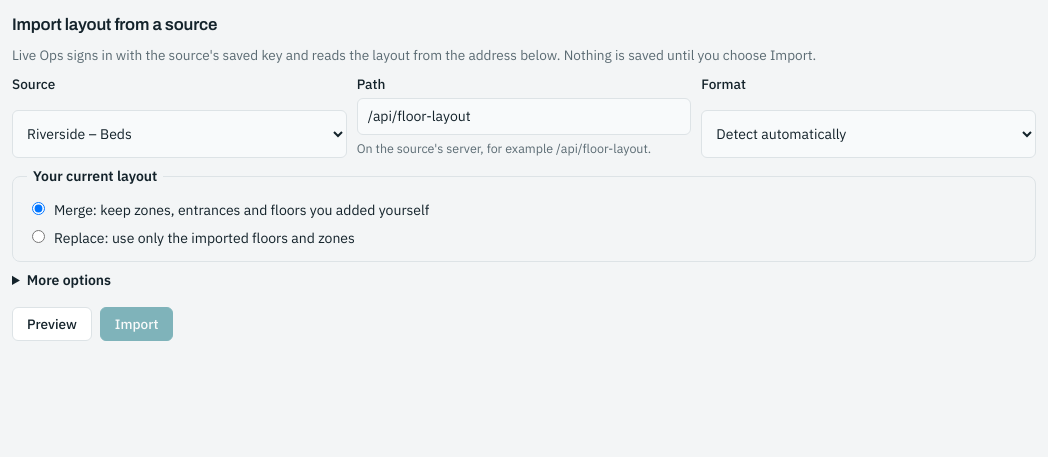
Test: errors from the source are shown in plain language with the hint
The width and height of the screenshot is (1048, 457).
Replace the text in the field labelled "Path" with "/v2/layout" at (524, 116), box [357,98,691,135]
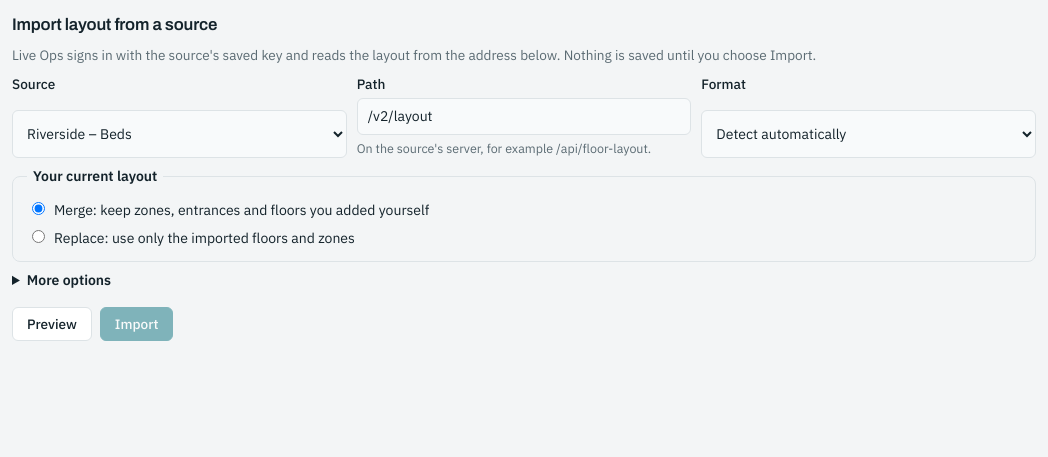
Click the button "Preview" at (52, 324), box [12,307,92,341]
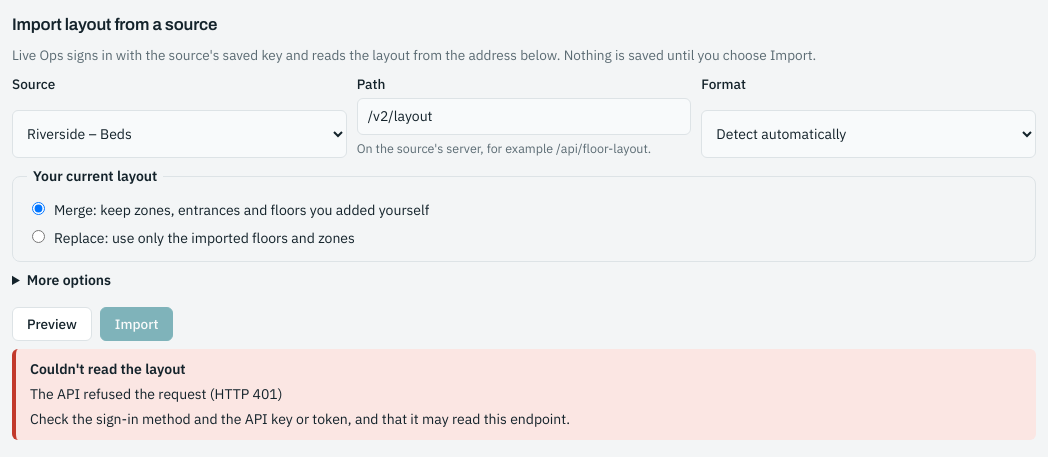
Result: the message shows "Couldn't read the layout" at [30,360,186,378]
Result: the message shows "HTTP 401" at [30,385,282,403]
Result: the message shows "Check the sign-in method" at [30,410,570,428]
